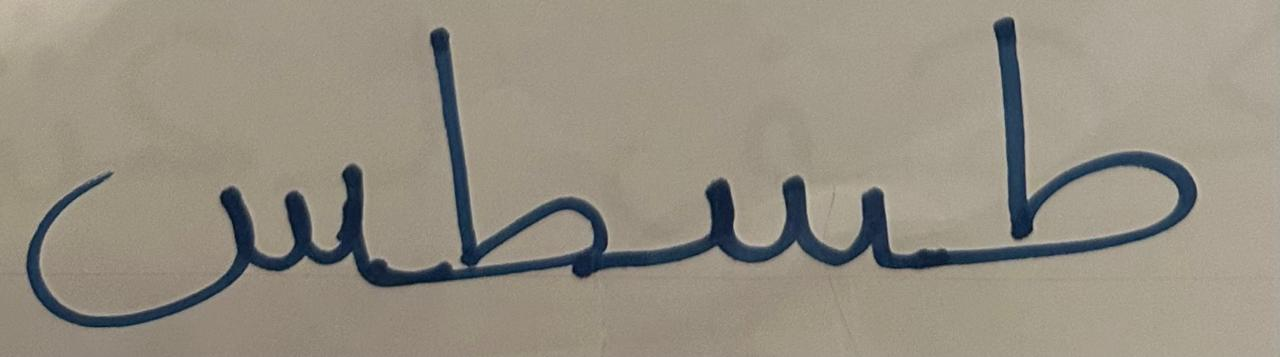sheen: (6, 52, 377, 338), (624, 30, 900, 314)
teh: (903, 6, 1233, 311), (382, 9, 620, 324)
